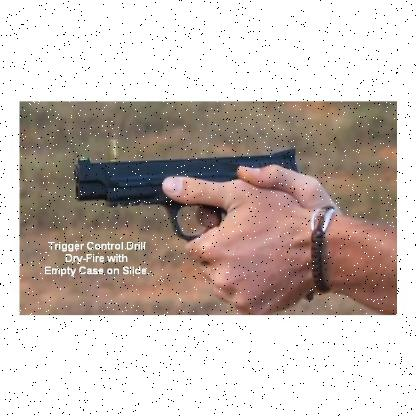gun: (73, 147, 301, 300)
